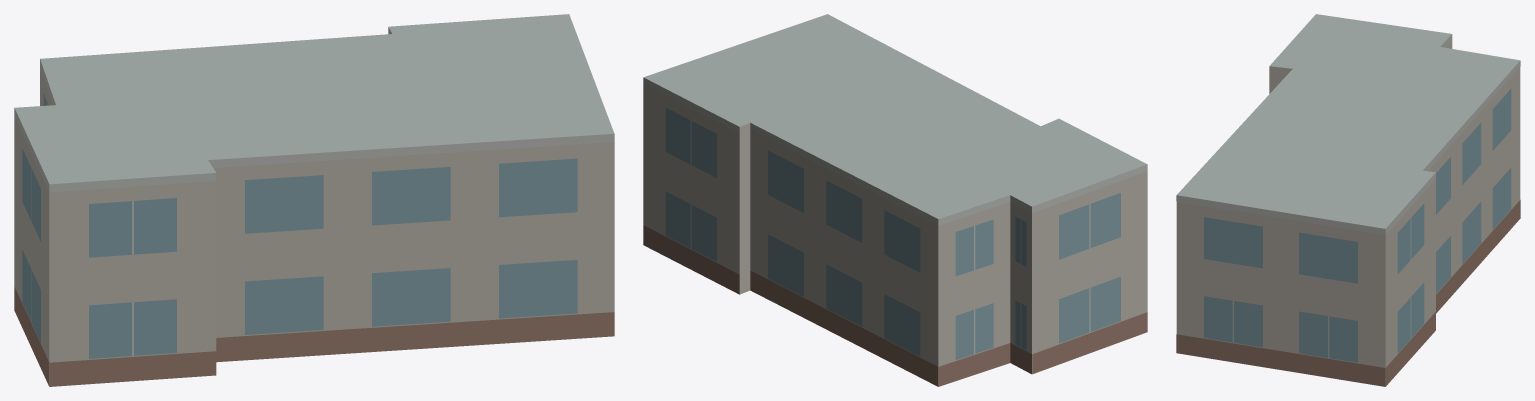
File: survey-upis-32953581.glb
The picture shows the model from 3 angles, left to right: view 1: azimuth 30°, elevation 25°; view 2: azimuth 150°, elevation 25°; view 3: azimuth 270°, elevation 25°; orthographic projection. The views are drawn at different scales.
Parts seen in each view (by area): view 1: survey-upis-32953581.tmp; view 2: survey-upis-32953581.tmp; view 3: survey-upis-32953581.tmp.
Boxes of the visible parts, left/top/right/bottom form: survey-upis-32953581.tmp: left=14, top=14, right=614, bottom=386; survey-upis-32953581.tmp: left=643, top=14, right=1147, bottom=386; survey-upis-32953581.tmp: left=1176, top=14, right=1520, bottom=386.
Size of the model in its own units: 17.8 by 6.1 by 12.04.
